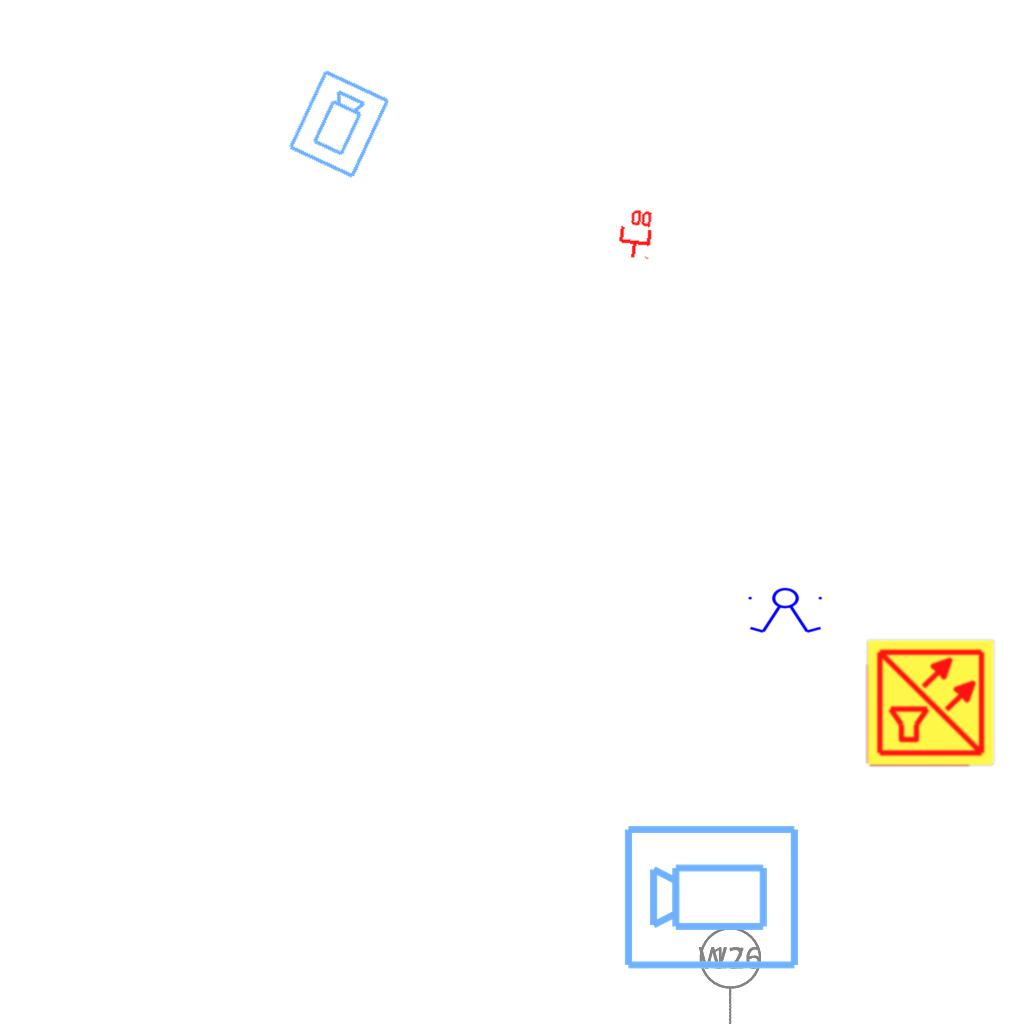Datenanschluss_zweifach: (615, 206, 655, 261)
KFO_Kamera_mit_Festobjektiv: (621, 819, 803, 973), (285, 66, 394, 183)
OKW_Multisensormelder_(Kombination_optischer_Rauch-Kahlenmonoxid_Waerme-Melder): (865, 637, 997, 769)
Serienschalter: (744, 587, 828, 635)
